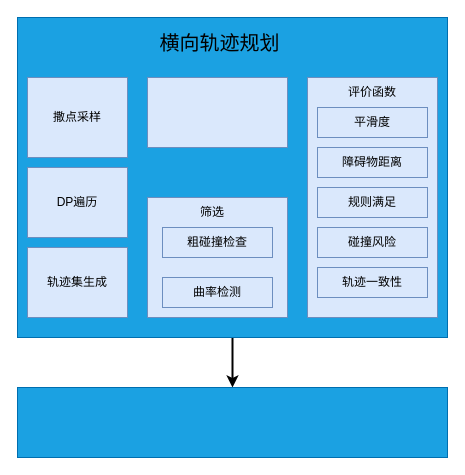
Some shapes in this 465 by 475 pixel diagram are drawn without their labels. Here are the shapes that lost their labels. From the top down, the centre of each, then its label:
At [217,112]: "精确碰撞检测".
At [232,422]: "速度规划".
